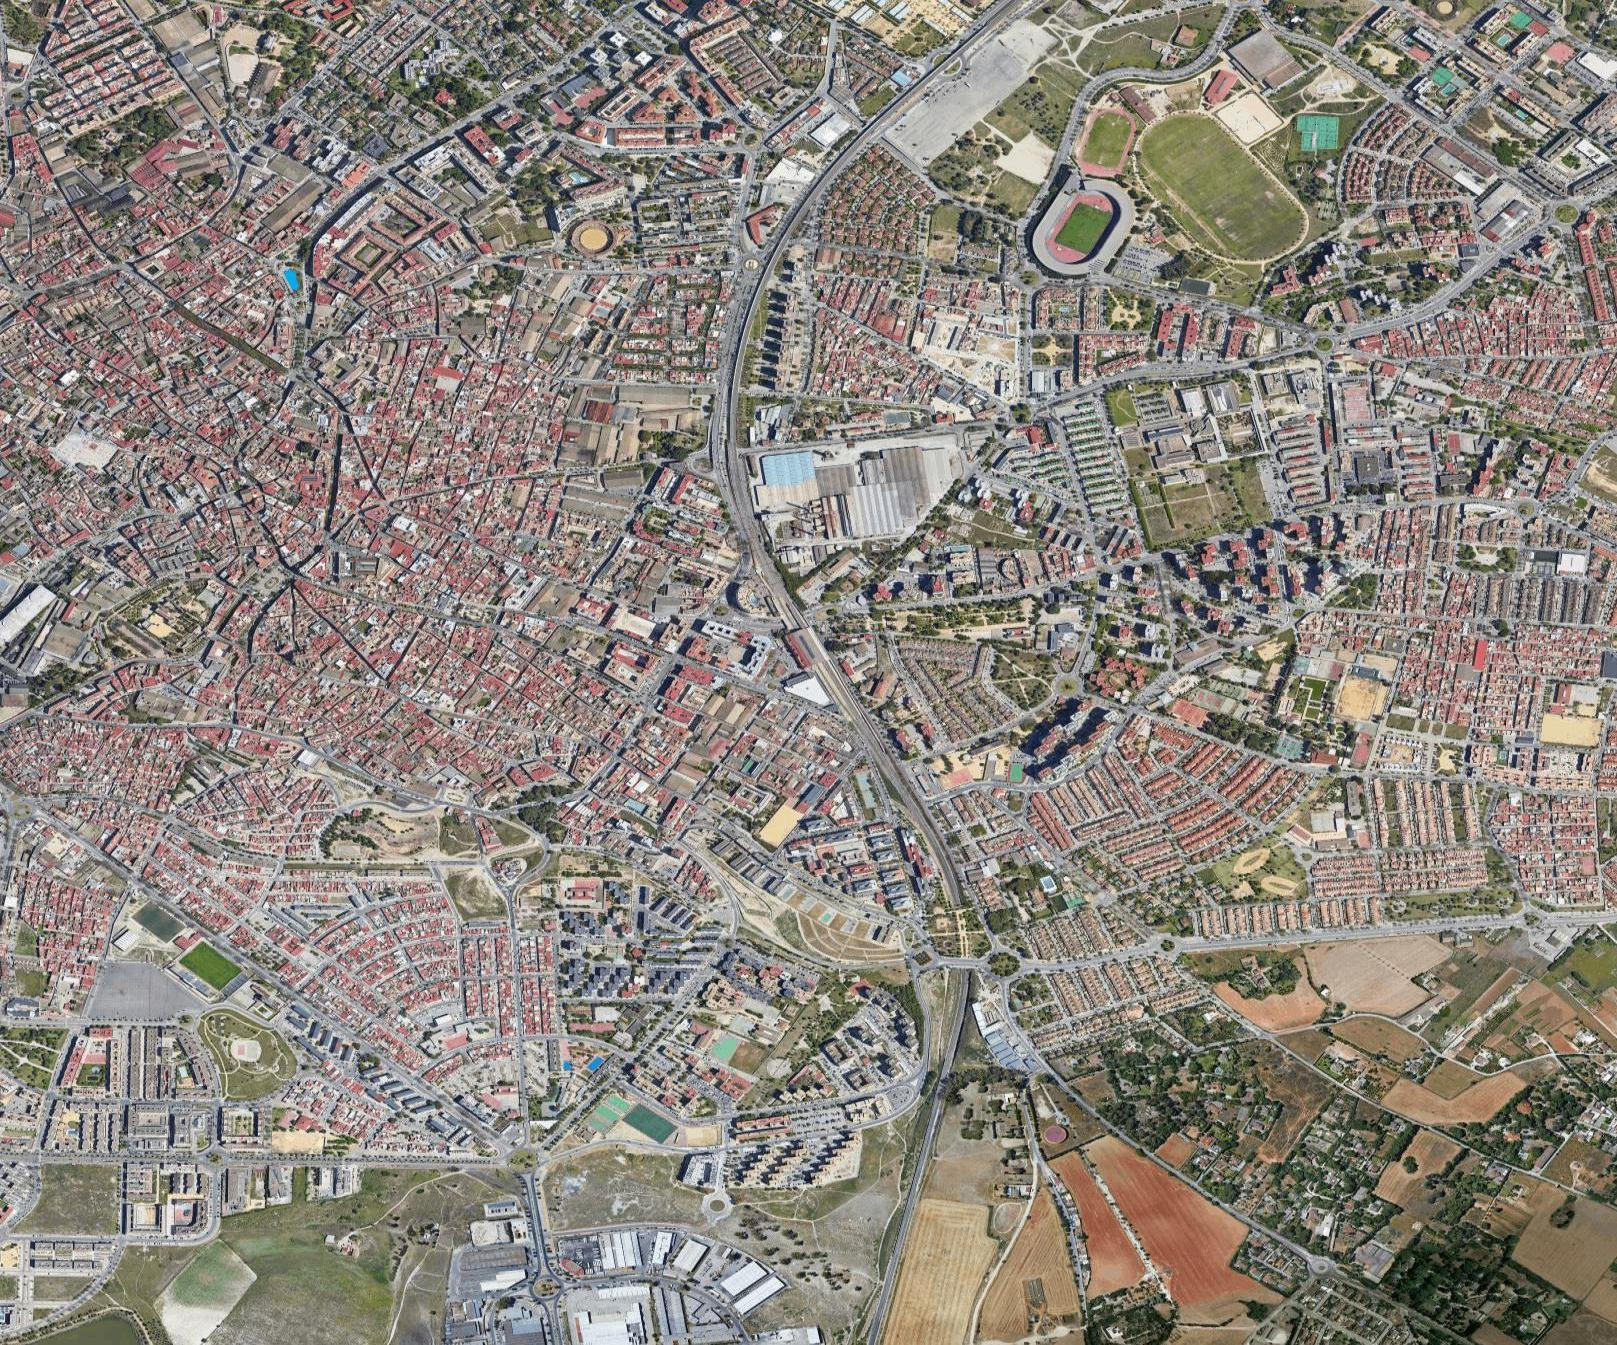train_station: (772, 615, 850, 683)
